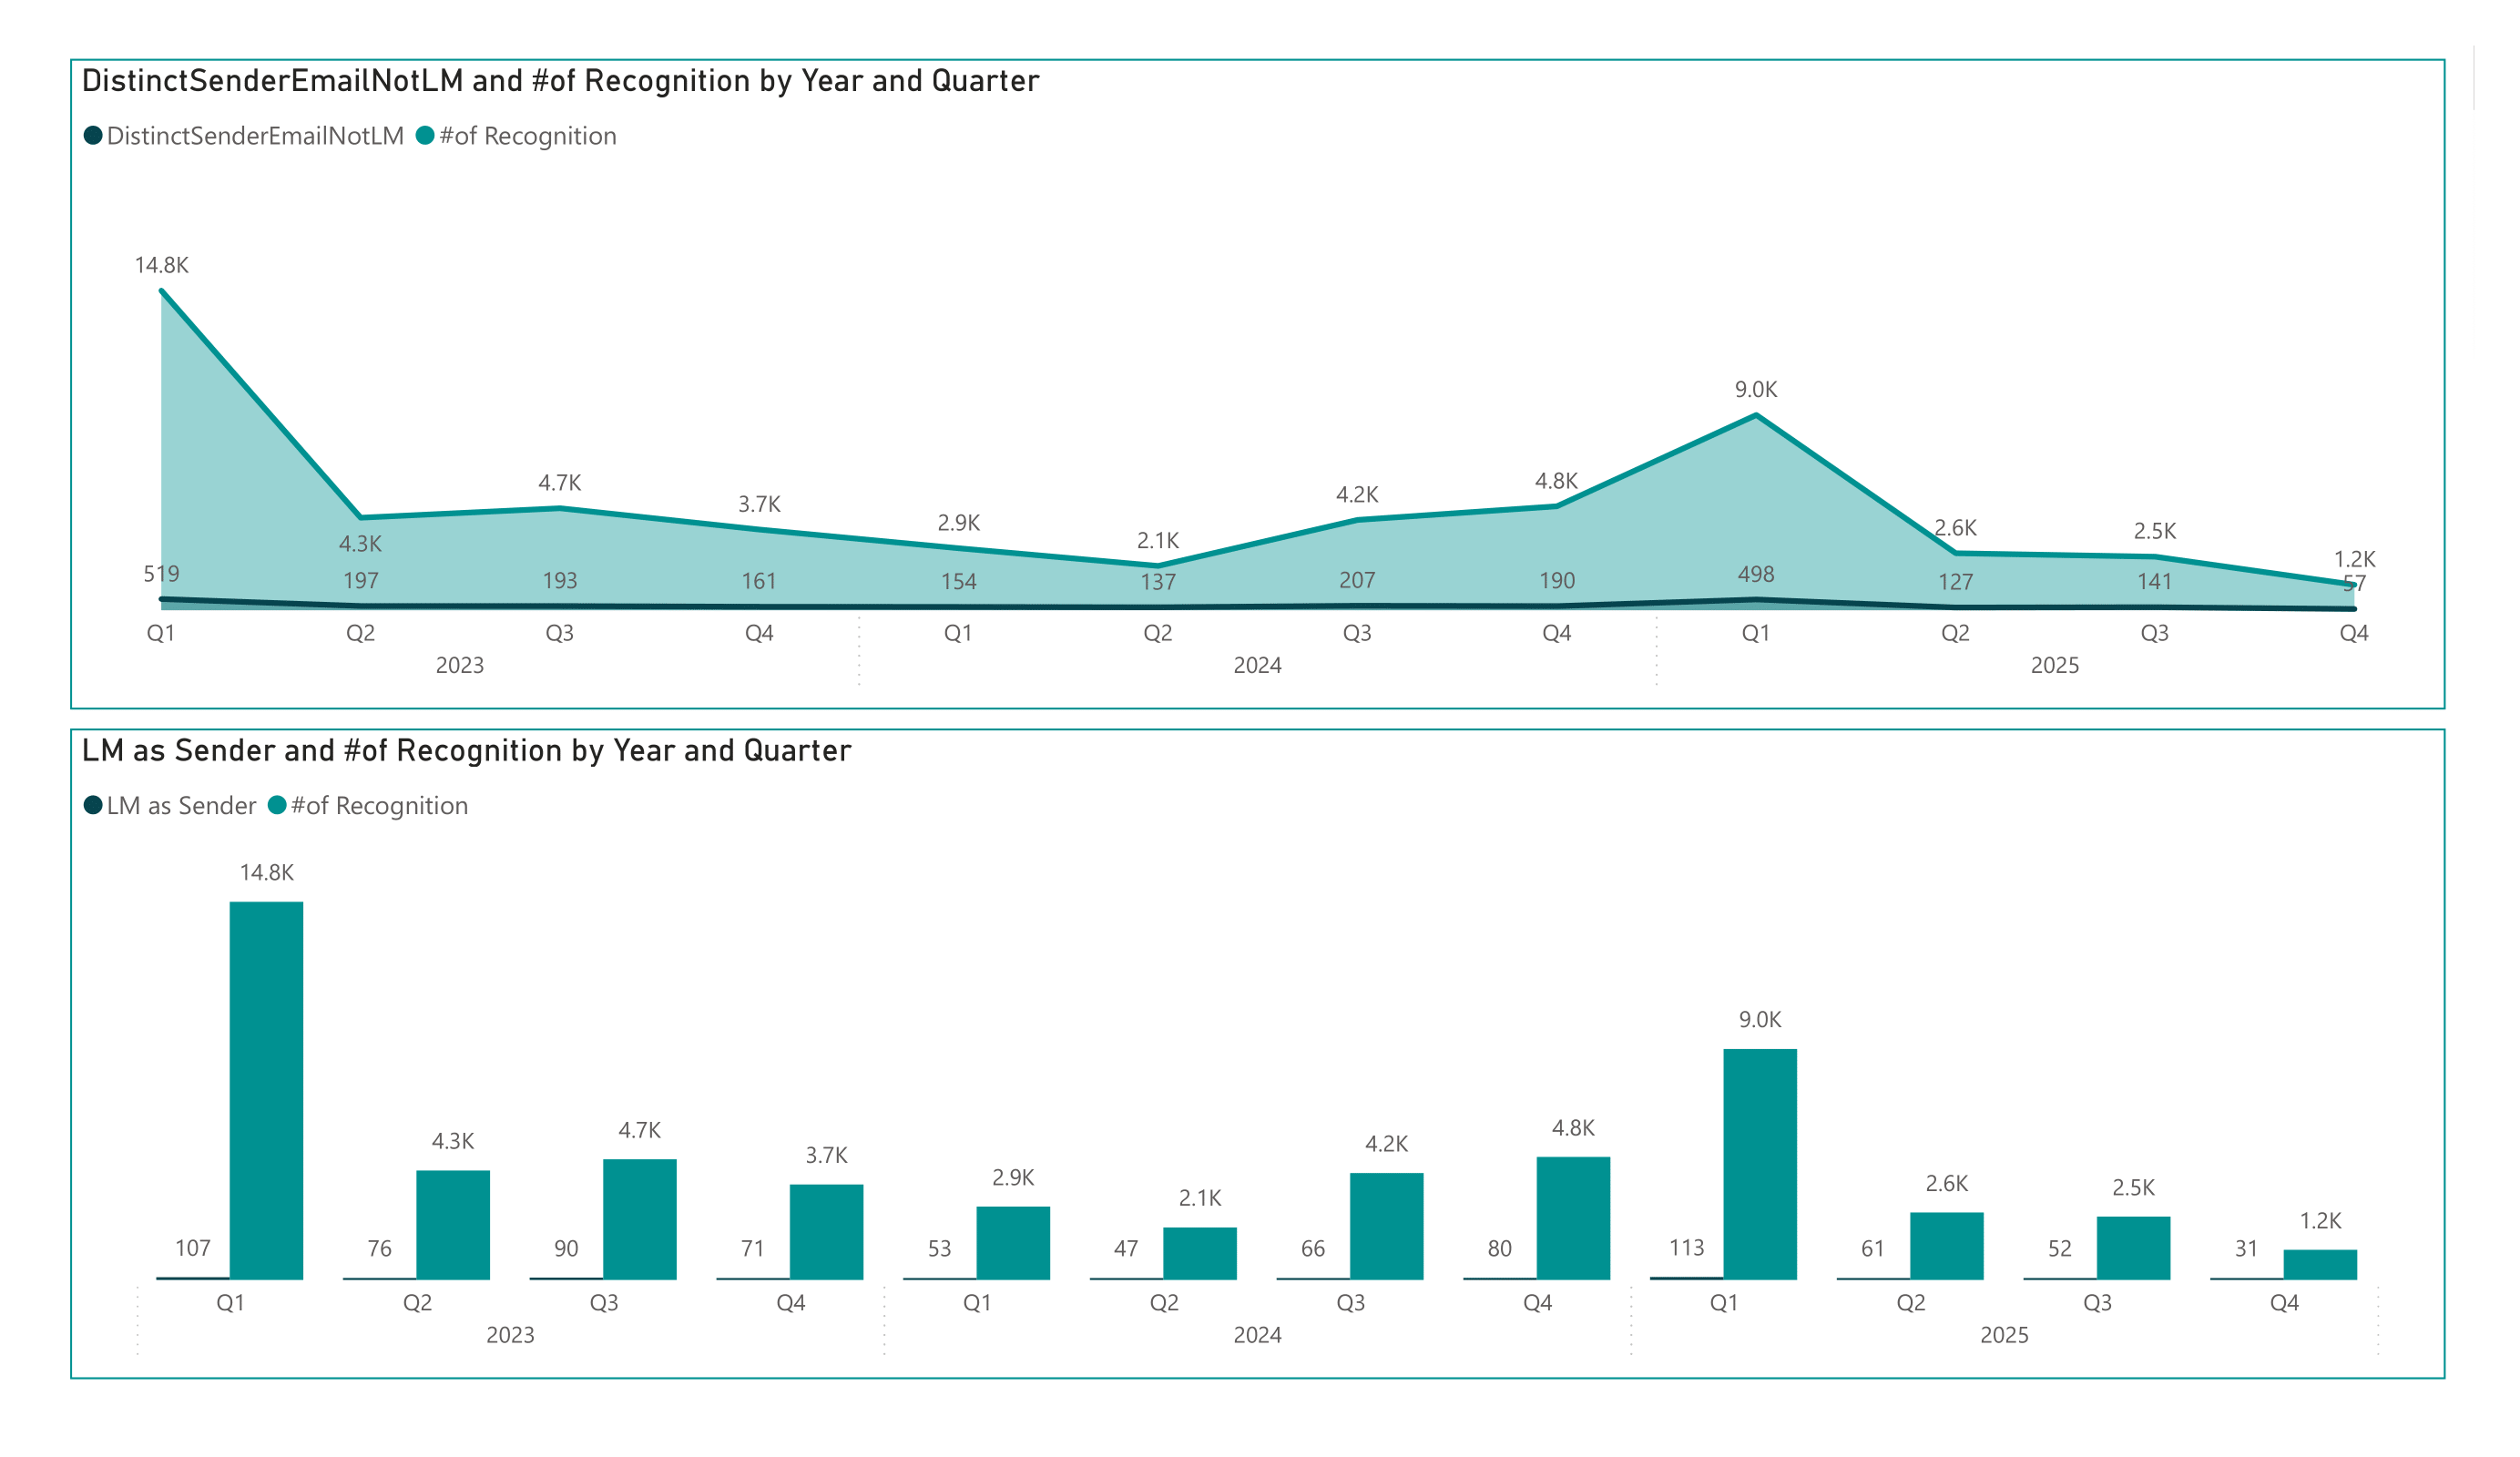

The page's visual inventory and layout, read from the dashboard file:
{"tool":"powerbi","page":{"name":"Indivi VS Man5","canvas":[1280,720],"ordinal":13},"visuals":[{"type":"areaChart","fields":{"Category":["DimDate.Year","DimDate.Quarter"],"Y":["Recognition Data.DistinctSenderEmailNotLM","Recognition Data.#of Recognition"]},"box":[13.3,6.7,1251.7,343.3],"z":0},{"type":"lineClusteredColumnComboChart","fields":{"Category":["DimDate.Year","DimDate.Quarter"],"Y":["Recognition Data.LM as Sender","Recognition Data.#of Recognition"]},"box":[13.3,360,1251.7,343.3],"z":1000}]}

Visuals, with their boxes on the page's 1280x720 design canvas (x1, y1, x2, y2). These are canvas units, not pixel positions in the 2520x1457 screenshot, which may show the page scaled, cropped or inside an application window:
areaChart - DimDate.Year x DimDate.Quarter: <bbox>13, 7, 1265, 350</bbox>
lineClusteredColumnComboChart - DimDate.Year x DimDate.Quarter: <bbox>13, 360, 1265, 703</bbox>
